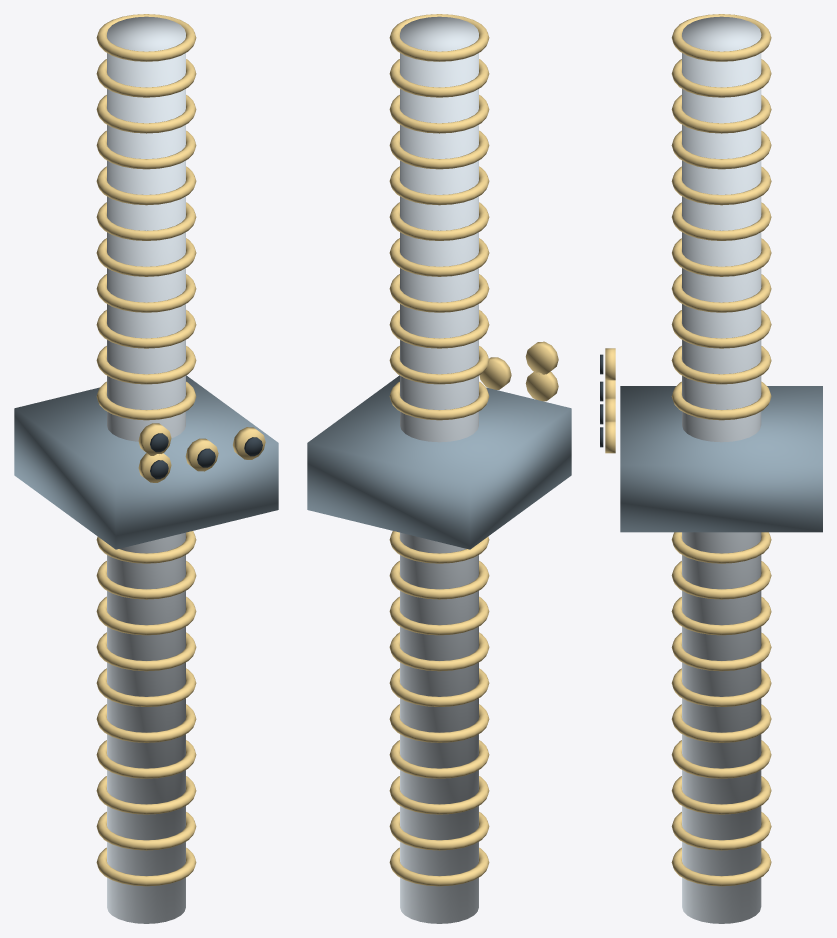
Rendered from 37_L92_AxialFeedBallscrew.glb.
The picture shows the model from 3 angles, left to right: view 1: azimuth 30°, elevation 25°; view 2: azimuth 150°, elevation 25°; view 3: azimuth 270°, elevation 25°; orthographic projection.
Parts seen in each view (by area): view 1: L92_AxialFeedBallscrew_Part_0000, L92_AxialFeedBallscrew_Part_0003, L92_AxialFeedBallscrew_Part_0001, L92_AxialFeedBallscrew_Part_0002, L92_AxialFeedBallscrew_Part_0006, L92_AxialFeedBallscrew_Part_0008, L92_AxialFeedBallscrew_Part_0010; view 2: L92_AxialFeedBallscrew_Part_0000, L92_AxialFeedBallscrew_Part_0003, L92_AxialFeedBallscrew_Part_0001, L92_AxialFeedBallscrew_Part_0002, L92_AxialFeedBallscrew_Part_0010, L92_AxialFeedBallscrew_Part_0004, L92_AxialFeedBallscrew_Part_0006; view 3: L92_AxialFeedBallscrew_Part_0000, L92_AxialFeedBallscrew_Part_0003, L92_AxialFeedBallscrew_Part_0001, L92_AxialFeedBallscrew_Part_0002.
Boxes of the visible parts, x1,y1,x2,y2 form: L92_AxialFeedBallscrew_Part_0000: (107, 16, 185, 923); L92_AxialFeedBallscrew_Part_0003: (14, 375, 278, 549); L92_AxialFeedBallscrew_Part_0001: (96, 238, 196, 886); L92_AxialFeedBallscrew_Part_0002: (96, 14, 196, 240); L92_AxialFeedBallscrew_Part_0006: (185, 438, 218, 471); L92_AxialFeedBallscrew_Part_0008: (233, 427, 265, 459); L92_AxialFeedBallscrew_Part_0010: (138, 423, 171, 455); L92_AxialFeedBallscrew_Part_0000: (400, 16, 478, 923); L92_AxialFeedBallscrew_Part_0003: (307, 375, 571, 549); L92_AxialFeedBallscrew_Part_0001: (389, 238, 489, 886); L92_AxialFeedBallscrew_Part_0002: (389, 14, 489, 240); L92_AxialFeedBallscrew_Part_0010: (525, 341, 558, 374); L92_AxialFeedBallscrew_Part_0004: (525, 371, 558, 401); L92_AxialFeedBallscrew_Part_0006: (479, 357, 511, 389); L92_AxialFeedBallscrew_Part_0000: (682, 16, 761, 923); L92_AxialFeedBallscrew_Part_0003: (620, 386, 822, 532); L92_AxialFeedBallscrew_Part_0001: (671, 238, 771, 886); L92_AxialFeedBallscrew_Part_0002: (671, 14, 771, 240).
Size of the model in its own units: 0.76 by 3.9 by 0.902.
